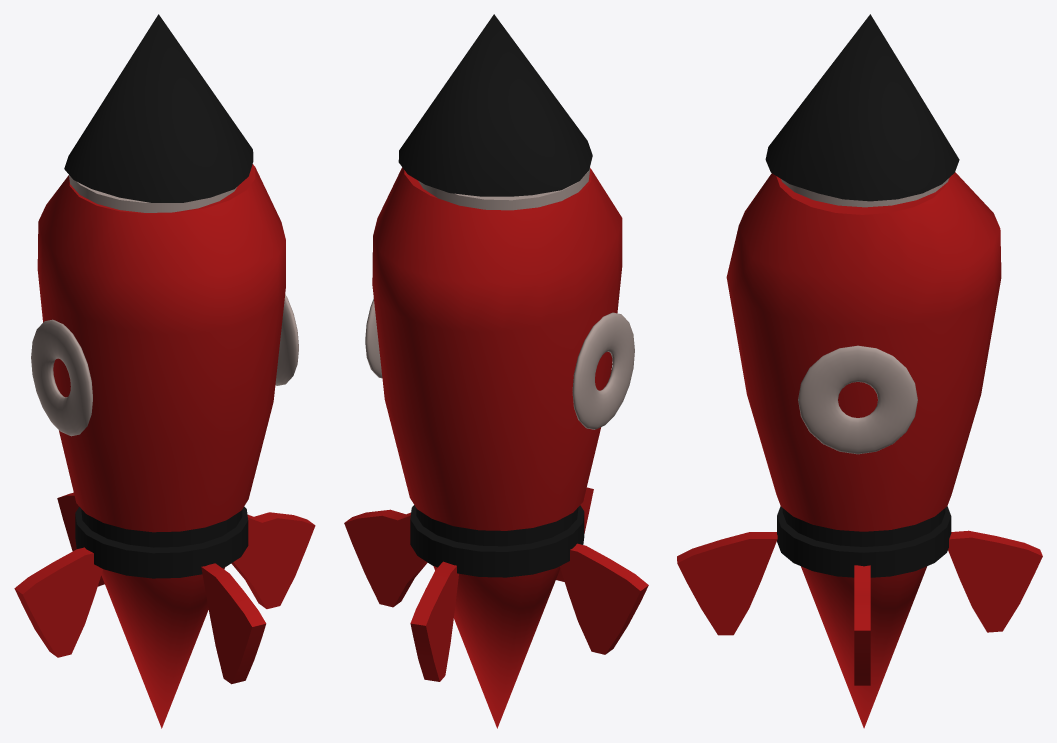
The model's file is rocketped.fbx.
The picture shows the model from 3 angles, left to right: view 1: azimuth 30°, elevation 25°; view 2: azimuth 150°, elevation 25°; view 3: azimuth 270°, elevation 25°; orthographic projection.
Parts seen in each view (by area): view 1: pCylinder1, pCone1, pCone2, pCube2, pCylinder2, pCube1, pTorus2, pCube3, pCylinder3, pCylinder4, pTorus1, pCube4; view 2: pCylinder1, pCone1, pCone2, pCube2, pCylinder2, pCube1, pTorus2, pCube4, pCylinder3, pCylinder4, pTorus1; view 3: pCylinder1, pCone1, pTorus1, pCone2, pCube3, pCube4, pCylinder2, pCylinder3, pCube1, pCylinder4.
Boxes of the visible parts, x1,y1,x2,y2 form: pCylinder1: [37, 164, 285, 532]; pCone1: [64, 14, 253, 202]; pCone2: [101, 567, 225, 728]; pCube2: [14, 547, 102, 657]; pCylinder2: [75, 506, 248, 578]; pCube1: [231, 512, 315, 608]; pTorus2: [31, 319, 92, 436]; pCube3: [201, 563, 266, 684]; pCylinder3: [81, 509, 242, 547]; pCylinder4: [69, 175, 236, 212]; pTorus1: [275, 294, 298, 385]; pCube4: [57, 492, 104, 586]; pCylinder1: [372, 167, 622, 530]; pCone1: [398, 14, 592, 196]; pCone2: [433, 566, 560, 728]; pCube2: [560, 543, 648, 654]; pCylinder2: [410, 505, 584, 577]; pCube1: [344, 509, 427, 607]; pTorus2: [572, 312, 634, 429]; pCube4: [410, 561, 458, 681]; pCylinder3: [416, 507, 578, 546]; pCylinder4: [418, 168, 589, 210]; pTorus1: [365, 298, 382, 378]; pCylinder1: [726, 172, 1001, 531]; pCone1: [765, 14, 959, 201]; pTorus1: [798, 345, 917, 454]; pCone2: [801, 566, 926, 728]; pCube3: [677, 532, 777, 635]; pCube4: [948, 530, 1042, 632]; pCylinder2: [777, 506, 951, 577]; pCylinder3: [782, 508, 945, 546]; pCube1: [854, 565, 870, 685]; pCylinder4: [781, 178, 949, 207].
Size of the model in its own units: 3.9 by 9.05 by 4.2.
